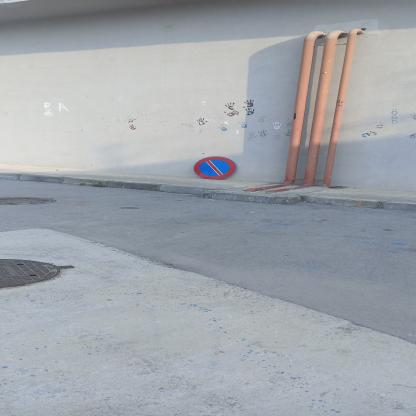No Waiting: (196, 158, 238, 181)
